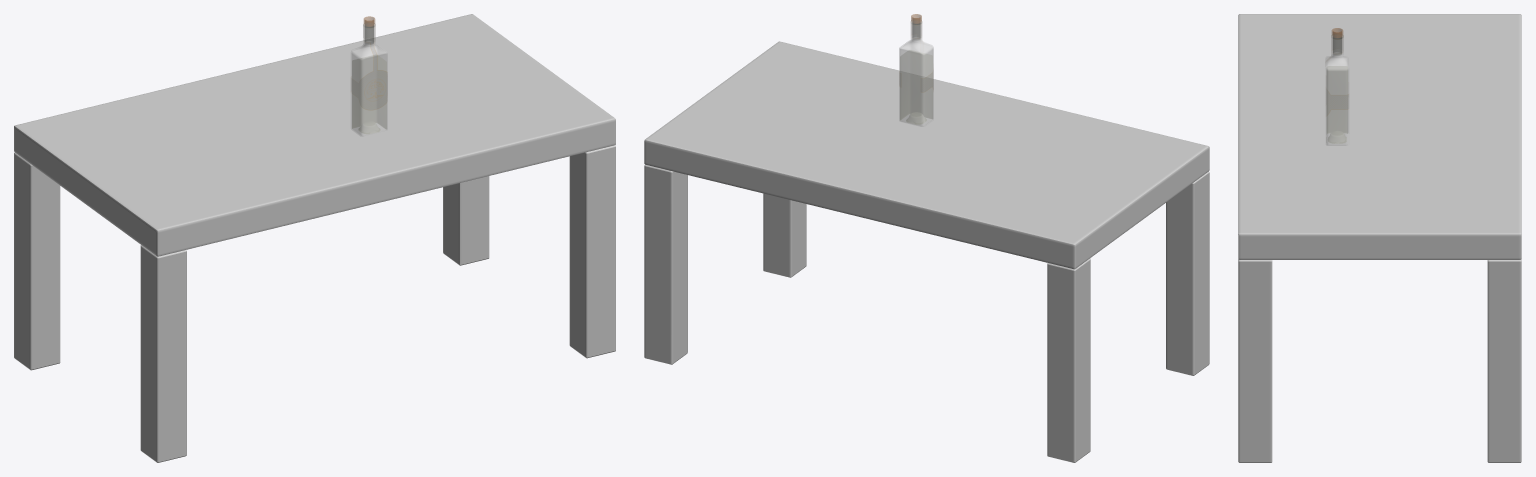
File: compositing_table_bottle.glb
The picture shows the model from 3 angles, left to right: view 1: azimuth 30°, elevation 25°; view 2: azimuth 150°, elevation 25°; view 3: azimuth 270°, elevation 25°; orthographic projection. The views are drawn at different scales.
Visible parts, largest first — view 1: table_rootnode, bottle_002_mesh_n3d; view 2: table_rootnode, bottle_002_mesh_n3d; view 3: table_rootnode, bottle_002_mesh_n3d.
Boxes of the visible parts, left/top/right/bottom form: table_rootnode: left=14, top=14, right=615, bottom=462; bottle_002_mesh_n3d: left=351, top=16, right=387, bottom=136; table_rootnode: left=644, top=41, right=1209, bottom=462; bottle_002_mesh_n3d: left=899, top=14, right=933, bottom=126; table_rootnode: left=1238, top=14, right=1521, bottom=462; bottle_002_mesh_n3d: left=1325, top=28, right=1348, bottom=145.
Size of the model in its own units: 1.18 by 0.8464 by 0.6415.
3 materials, 1 textured.
